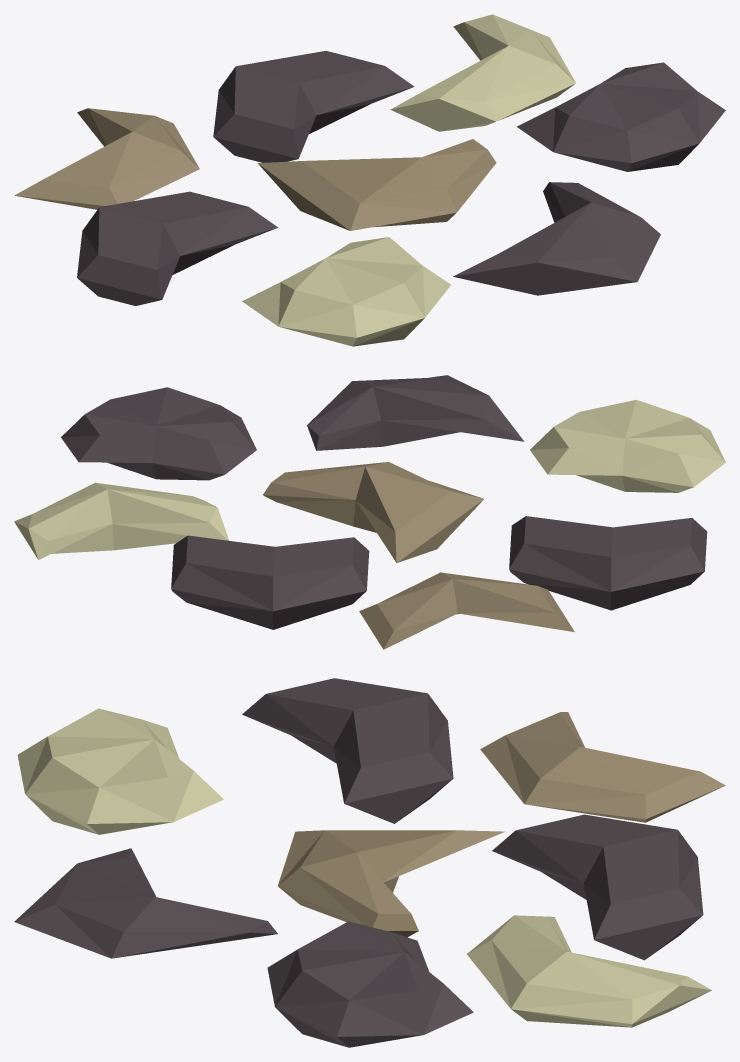
File: Poppy _seeds.fbx
3 renders of one model, top to bottom at view 1: azimuth 30°, elevation 25°; view 2: azimuth 150°, elevation 25°; view 3: azimuth 270°, elevation 25°, orthographic. The views are drawn at different scales.
Visible parts, largest first — view 1: Poppy__seeds1; view 2: Poppy__seeds1; view 3: Poppy__seeds1.
Part boxes in pixels (x1,y1,x2,y2): Poppy__seeds1: (14, 14, 725, 346); Poppy__seeds1: (14, 375, 725, 649); Poppy__seeds1: (14, 678, 725, 1047).
Size of the model in its own units: 5.64 by 0.5609 by 4.74.
